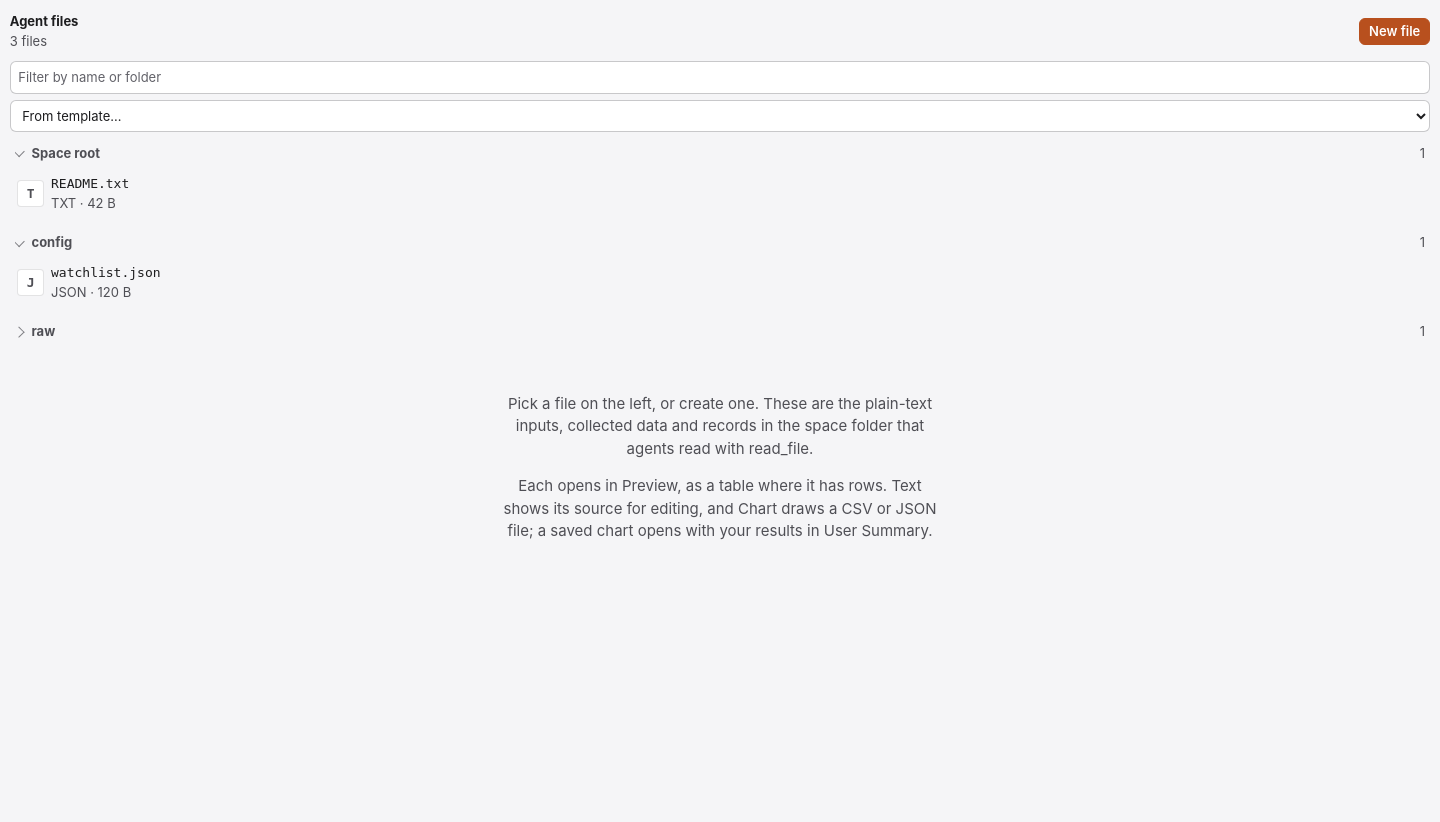
Test: data files › groups and filters files while keeping starter templates available
expect the heading "config" is shown: met, box [15,233,72,252]
expect the heading "Space root" is shown: met, box [15,144,100,163]
Click the button "raw".
click(35, 332)  # box [15,322,55,342]
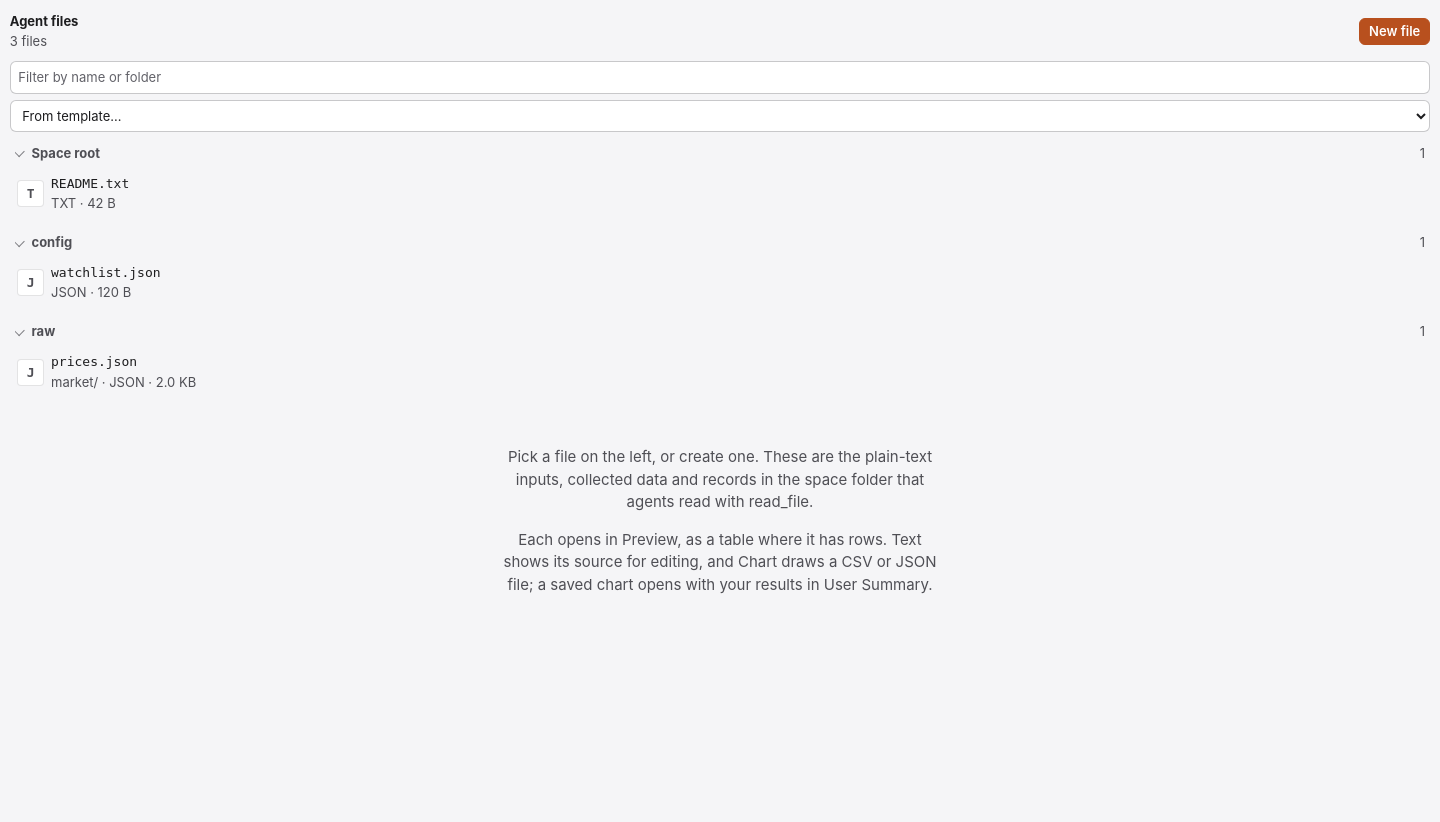
expect the text "prices.json" is shown: met, box [51,354,137,369]
expect the text "market/ · JSON · 2.0 KB" is shown: met, box [51,374,196,390]
Click the button "raw".
click(35, 332)  # box [15,322,55,342]
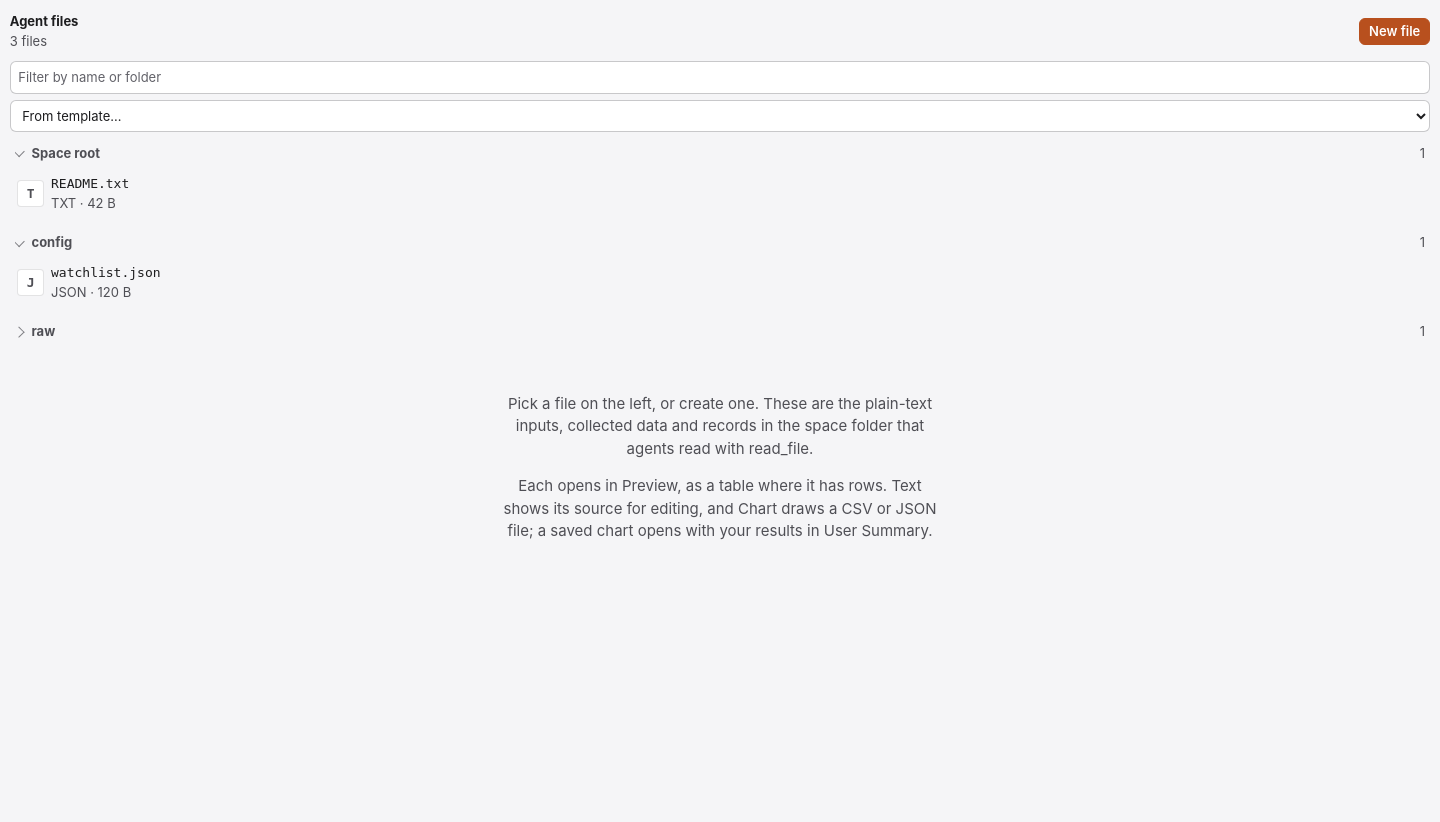
expect the button "prices.json" is gone: met
Note: A search shows every match, folded or not.
Type "prices" into the search field named "Filter agent files".
click(720, 78); type("prices")  # box [10,61,1430,94]
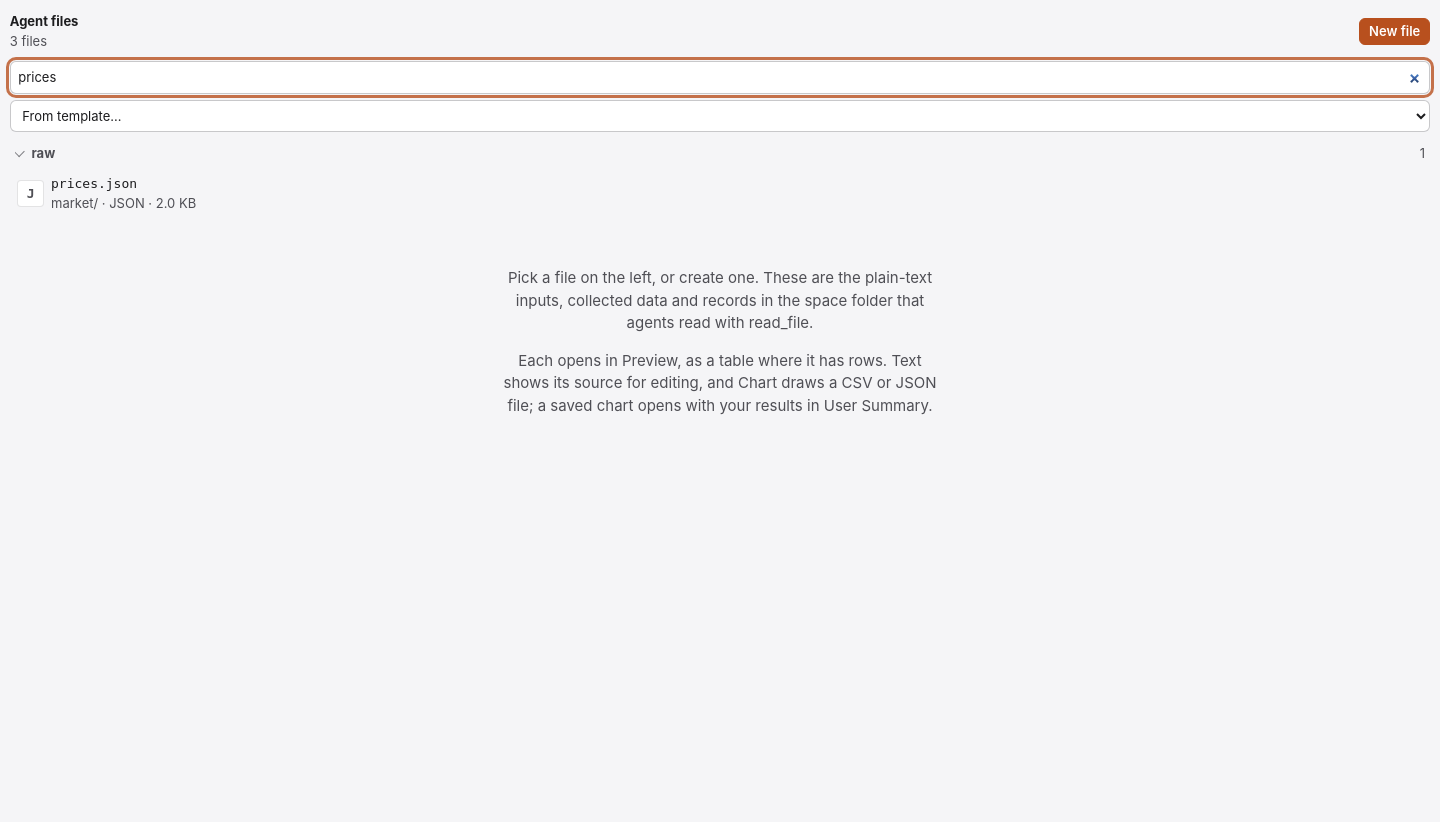
expect the button "watchlist.json" is gone: met
expect the text "prices.json" is shown: met, box [51,176,137,191]
Select "config/sources.json" in the dropdown named "Create from template" at coordinates (720, 116), box [10,100,1430,132]
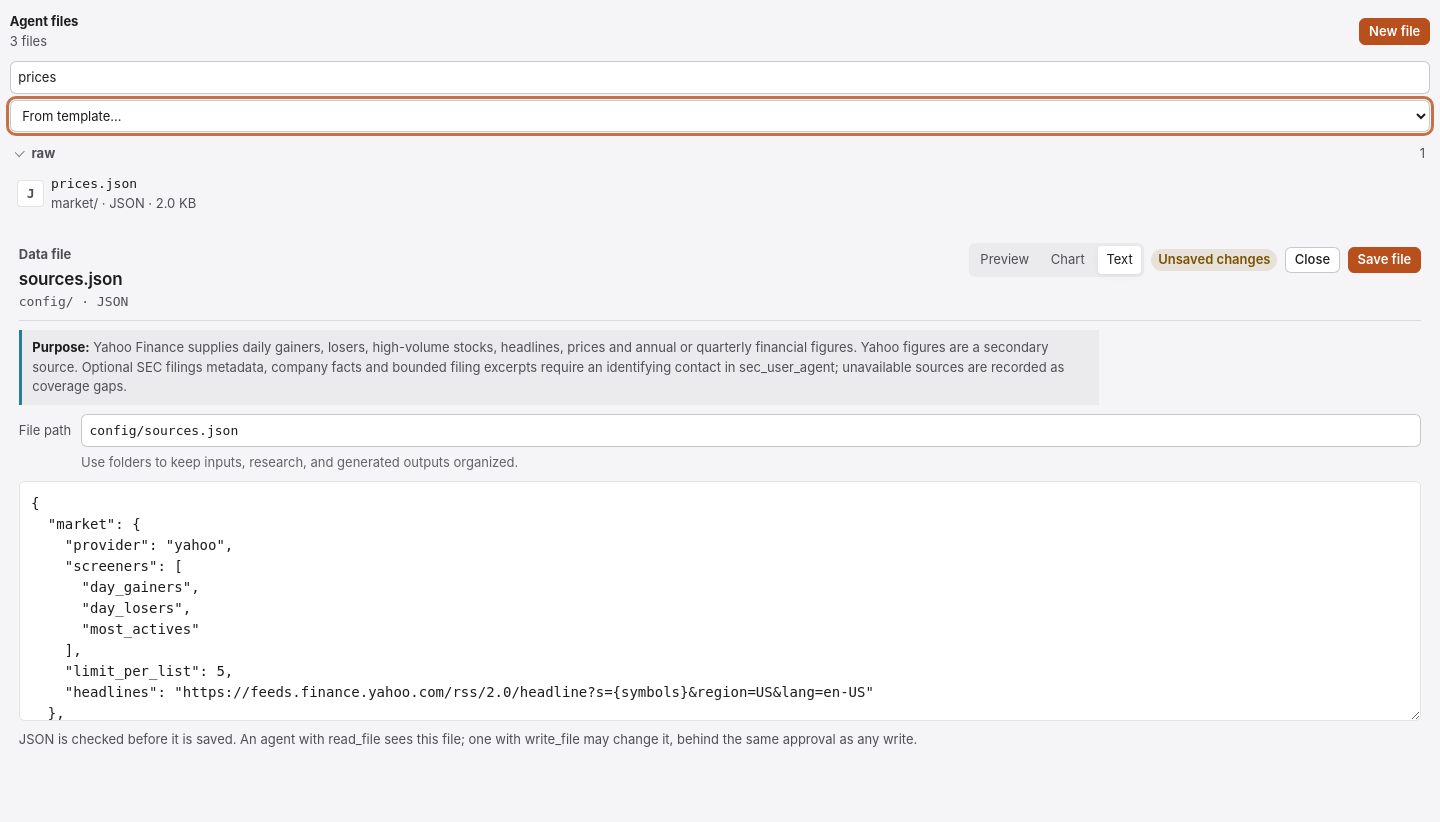
expect the field labelled "File path" holds "config/sources.json": met, box [81,414,1421,447]
